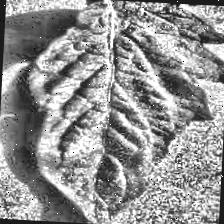spider mites: (22, 0, 224, 224)
